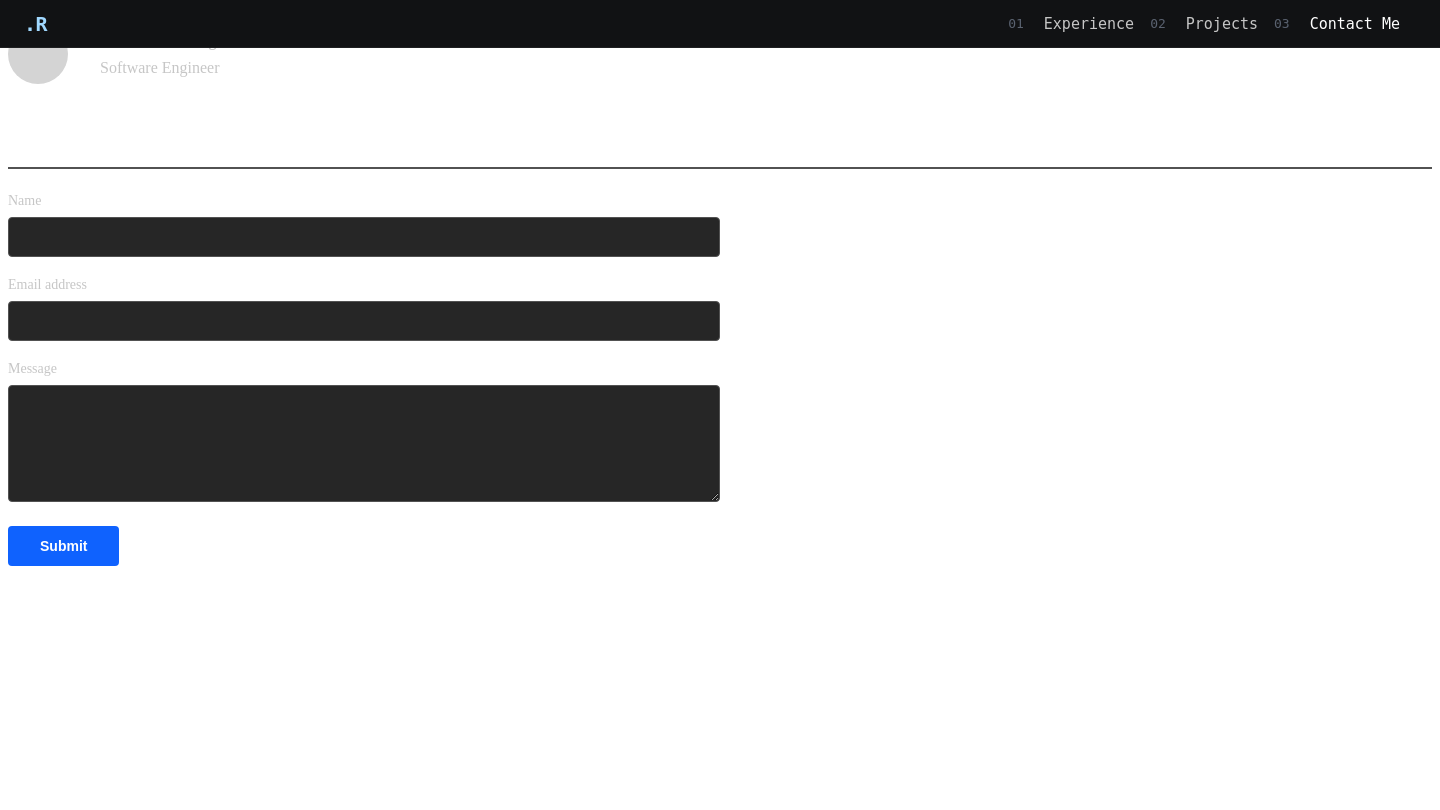
Scenario: shows validation error when name is empty
This screenshot has width=1440, height=810.
Click the button "Submit" at (64, 546), box [8,526,120,566]
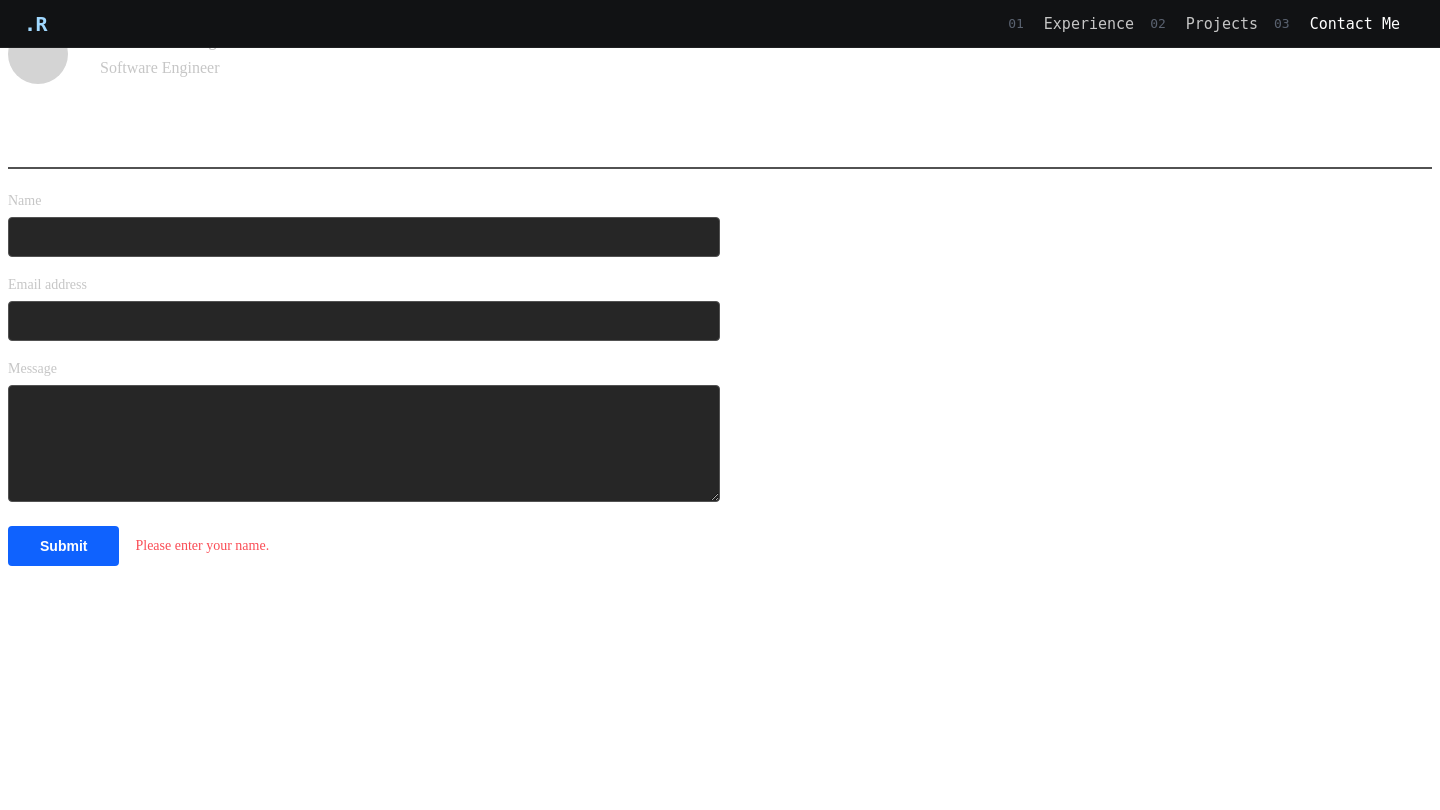
expect the text "Please enter your name." is shown: met, box [136,534,269,558]
